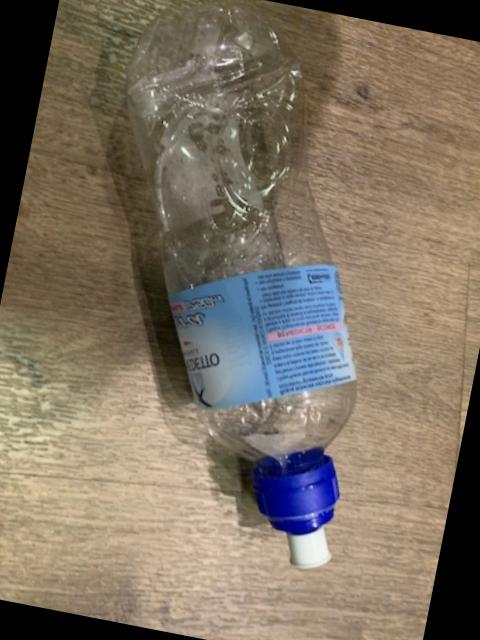plastic: (125, 7, 352, 568)
